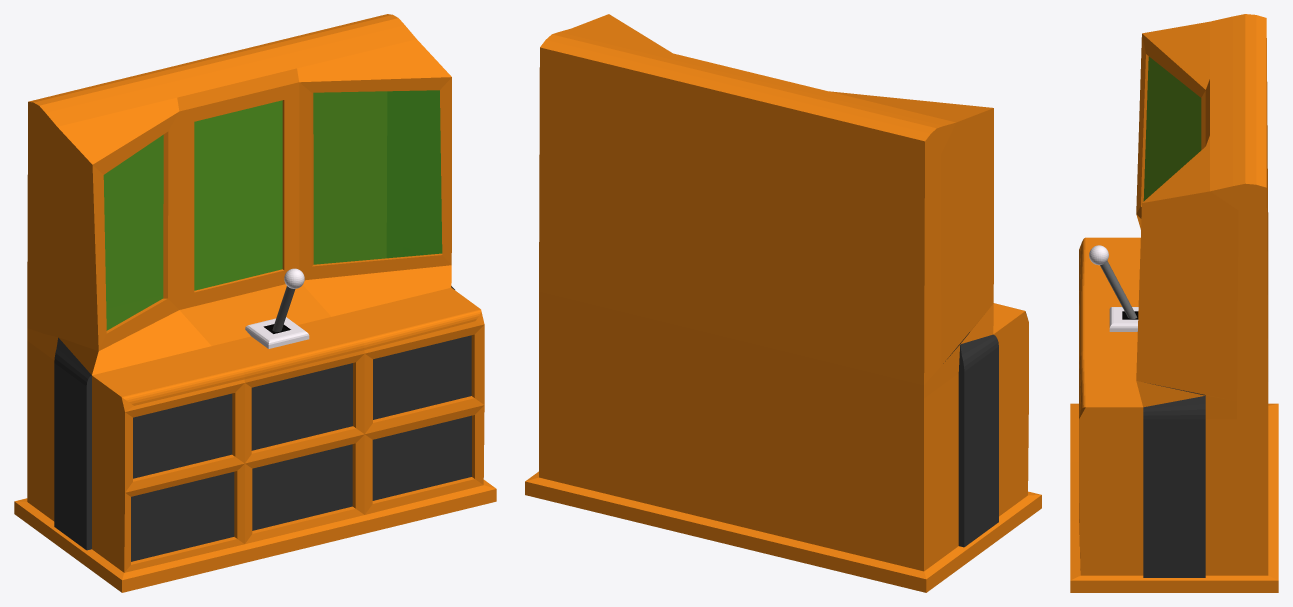
File: obpc.fbx
3 views of the same model, side by side, from view 1: azimuth 30°, elevation 25°; view 2: azimuth 150°, elevation 25°; view 3: azimuth 270°, elevation 25° (orthographic). The views are drawn at different scales.
Parts seen in each view (by area): view 1: Cube, Cube.001, Cube.002; view 2: Cube; view 3: Cube, Cube.002, Cube.001.
Boxes of the visible parts, x1,y1,x2,y2 form: Cube: (14, 14, 496, 592); Cube.001: (245, 317, 309, 348); Cube.002: (272, 268, 304, 331); Cube: (525, 14, 1041, 592); Cube: (1070, 14, 1278, 592); Cube.002: (1089, 245, 1137, 318); Cube.001: (1109, 307, 1138, 331).
Size of the model in its own units: 647 by 692 by 322.
